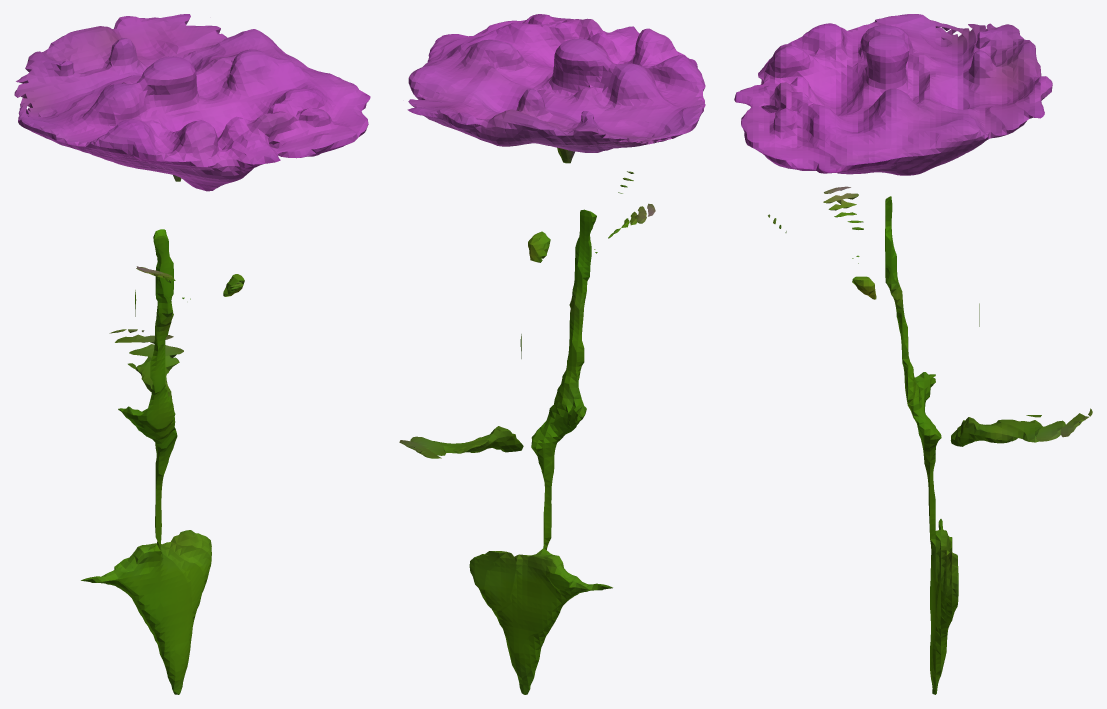
The model's file is flower.glb.
The picture shows the model from 3 angles, left to right: view 1: azimuth 30°, elevation 25°; view 2: azimuth 150°, elevation 25°; view 3: azimuth 270°, elevation 25°; orthographic projection. The views are drawn at different scales.
Parts seen in each view (by area): view 1: tmp49oimul6.ply; view 2: tmp49oimul6.ply; view 3: tmp49oimul6.ply.
Boxes of the visible parts, <box> form: tmp49oimul6.ply: <box>14,14,370,694</box>; tmp49oimul6.ply: <box>399,14,705,694</box>; tmp49oimul6.ply: <box>734,14,1092,694</box>.
Size of the model in its own units: 0.9537 by 1.98 by 1.01.
